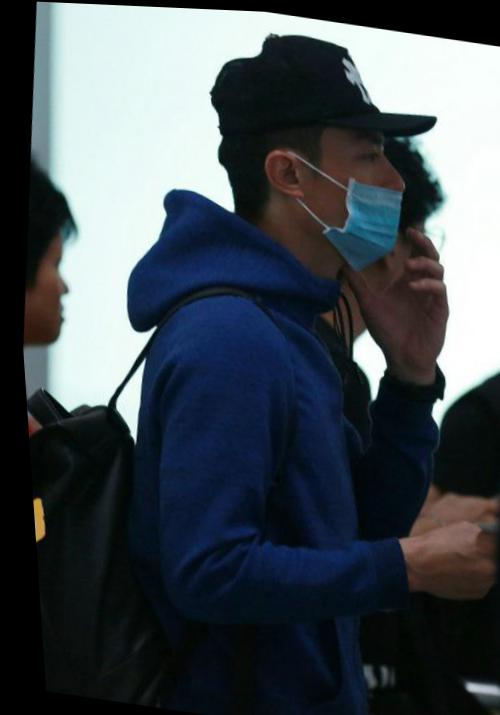NONE: (22, 233, 78, 350)
WRONG: (315, 111, 417, 271)
